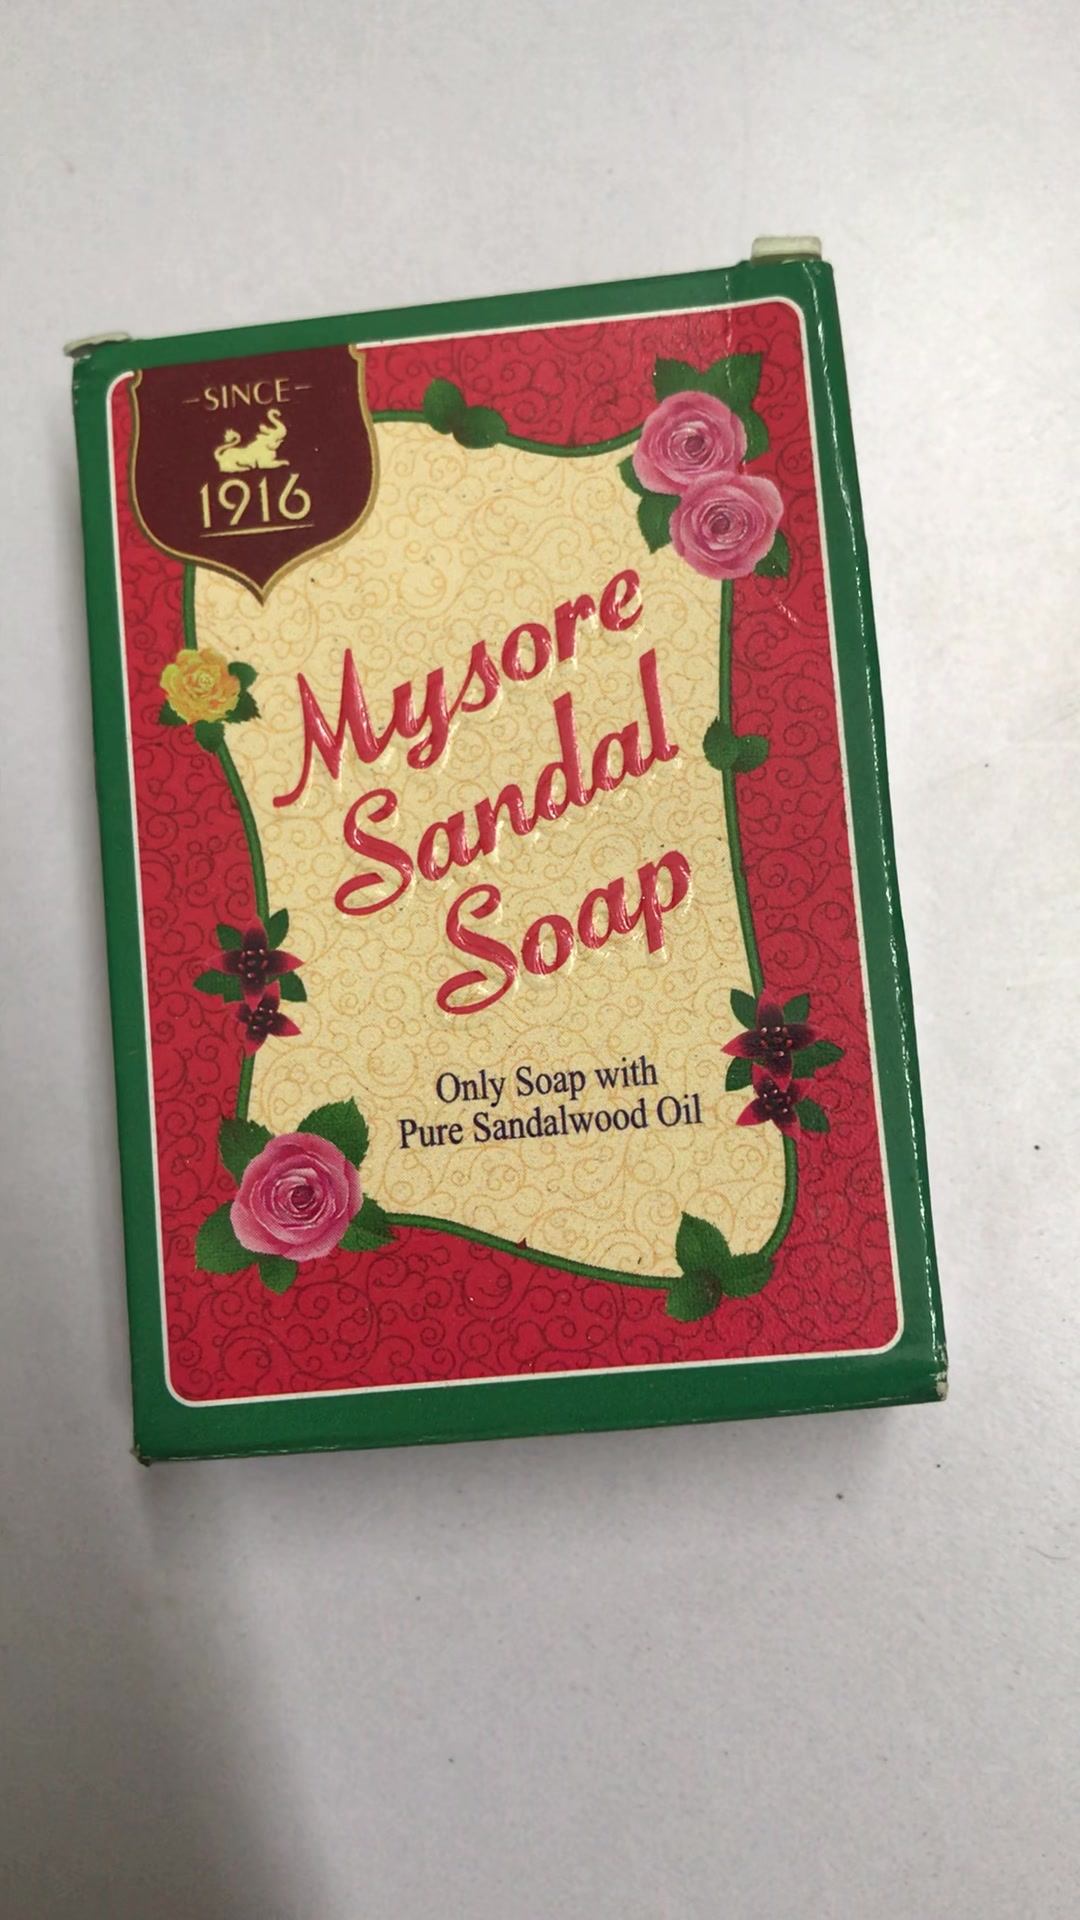mysore sandal soap: (80, 233, 961, 1456)
